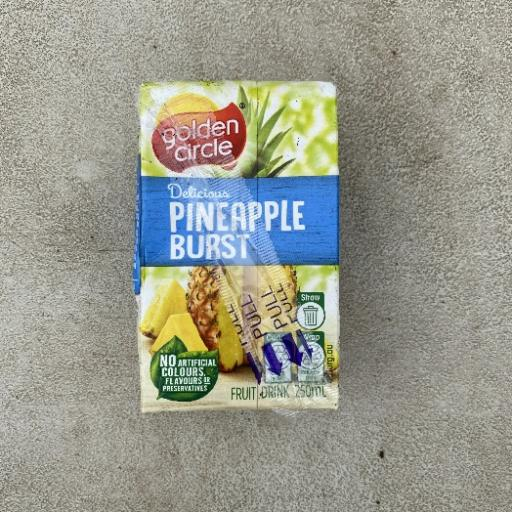Cardboard: (132, 79, 342, 413)
